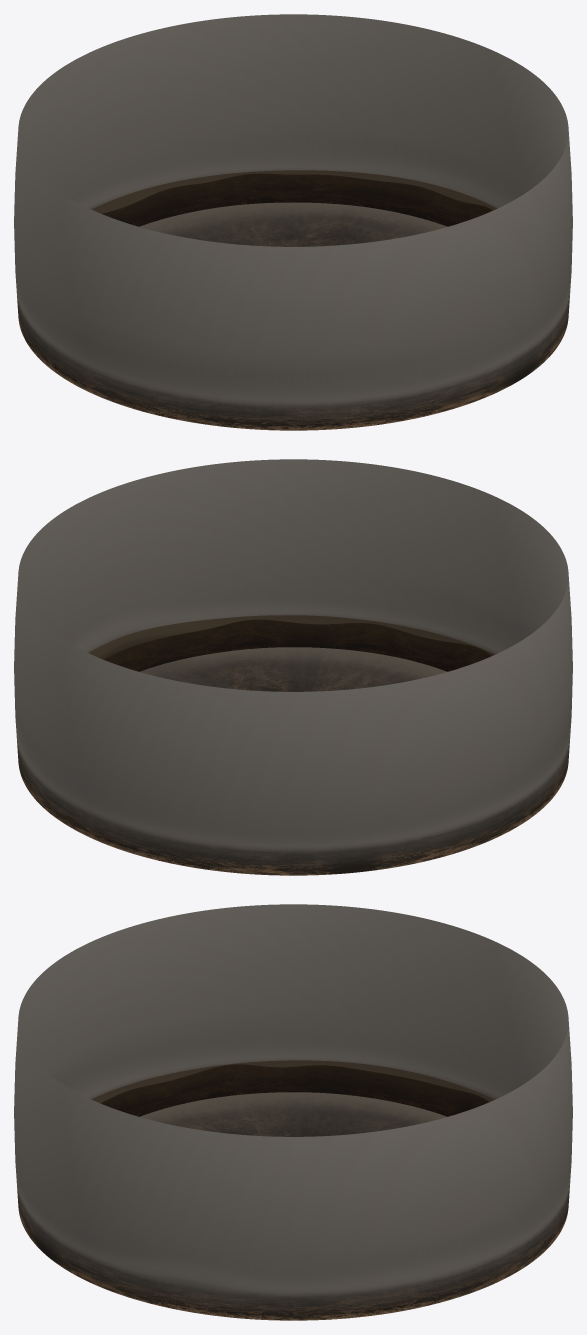
File: boneyard-panorama.glb
The picture shows the model from 3 angles, top to bottom: view 1: azimuth 30°, elevation 25°; view 2: azimuth 150°, elevation 25°; view 3: azimuth 270°, elevation 25°; orthographic projection.
Parts seen in each view (by area): view 1: BoneyardPanorama; view 2: BoneyardPanorama; view 3: BoneyardPanorama.
Boxes of the visible parts, x1,y1,x2,y2 form: BoneyardPanorama: (14,14,572,430); BoneyardPanorama: (14,459,572,875); BoneyardPanorama: (14,904,572,1320).
Bounding box in the file's own units: 386 × 140 × 386.
Materials: 1 (1 with a texture image).
